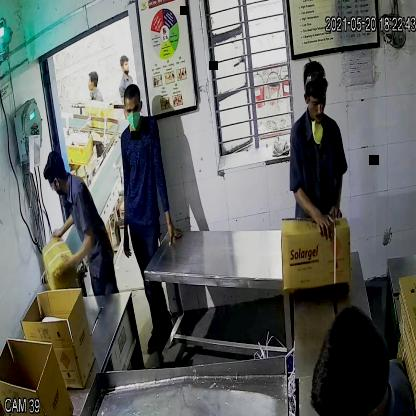no_goggles: (304, 90, 330, 111)
